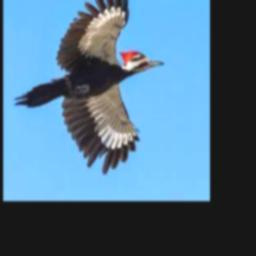Woodpecker: (14, 0, 165, 175)
